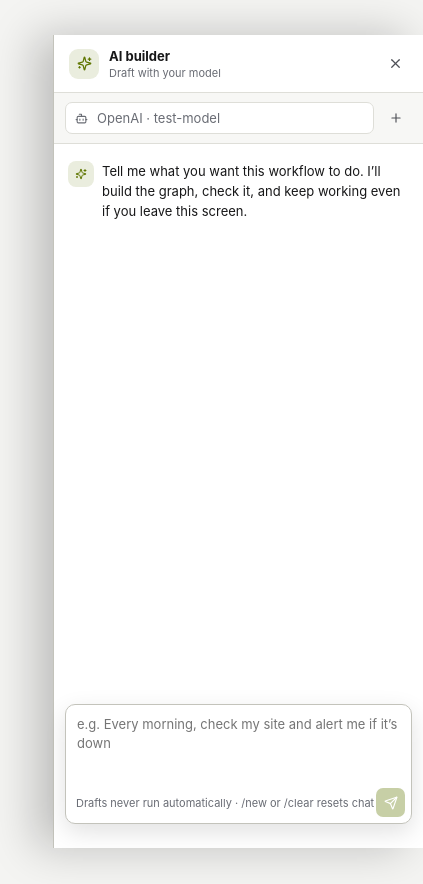
Scenario: AiWorkflowChat prompt submission › keeps the workflow chat open while a build starts and completes
This screenshot has width=423, height=884.
Type "Build a daily report" into the text box named "Message AI builder" at (238, 743), box [66, 705, 411, 781]
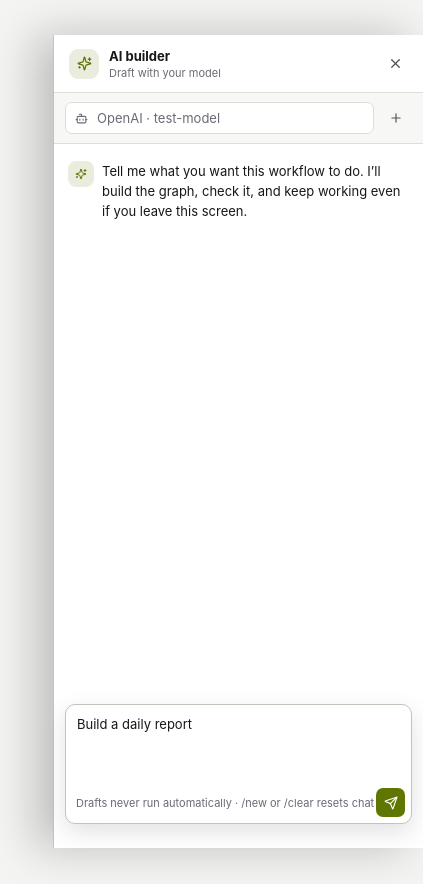
Press Enter in the text box named "Message AI builder", box [66, 705, 411, 781]
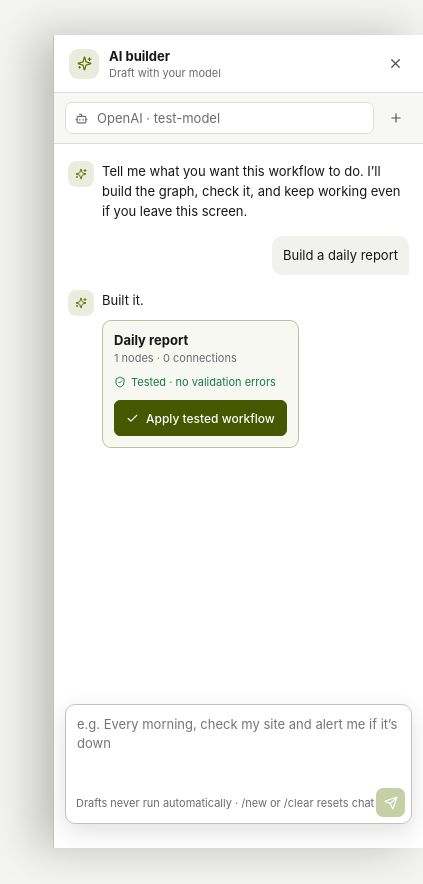
Now the text "Built it." is shown, box [102, 292, 144, 308]
